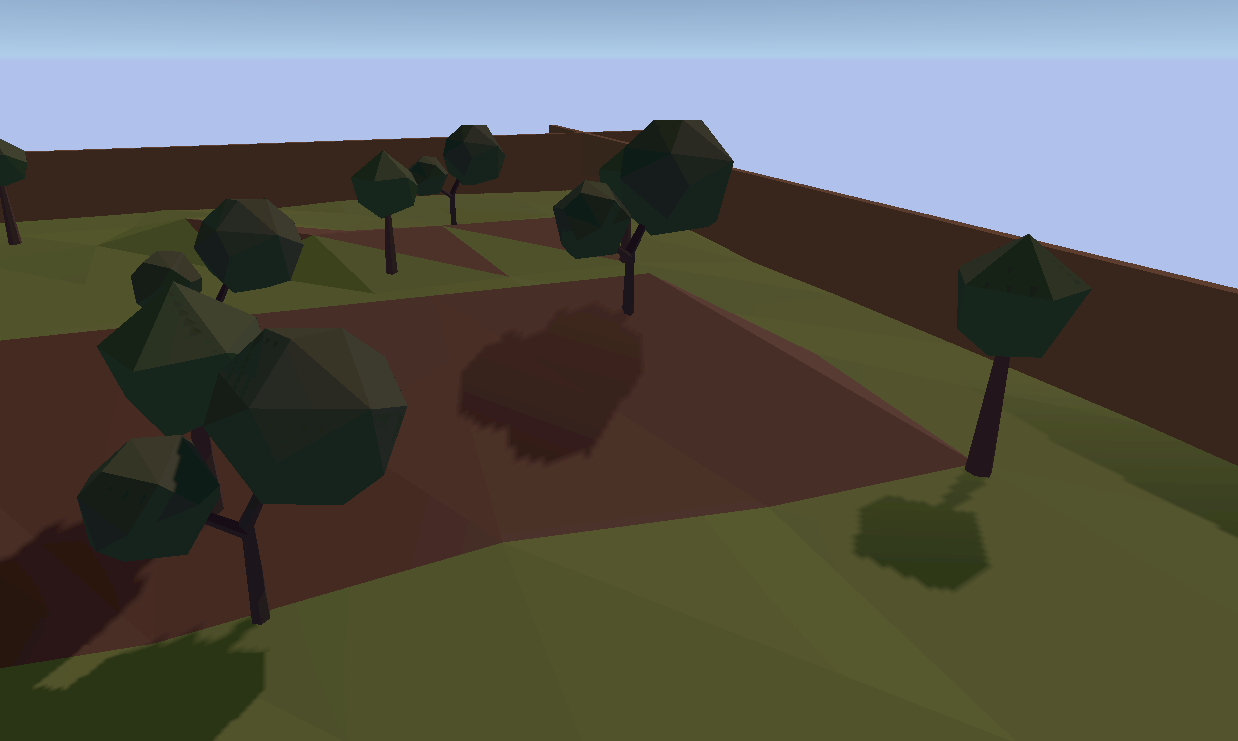tree: (74, 278, 409, 631), (552, 115, 745, 321), (951, 231, 1095, 483), (407, 123, 509, 225), (351, 148, 420, 278), (1, 139, 35, 243)
